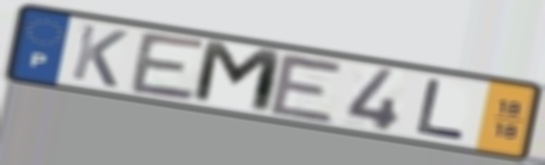4: (343, 66, 403, 133)
E: (265, 50, 348, 127), (126, 29, 210, 104)
K: (67, 21, 131, 91)
L: (414, 76, 471, 142)
M: (187, 37, 287, 118)
